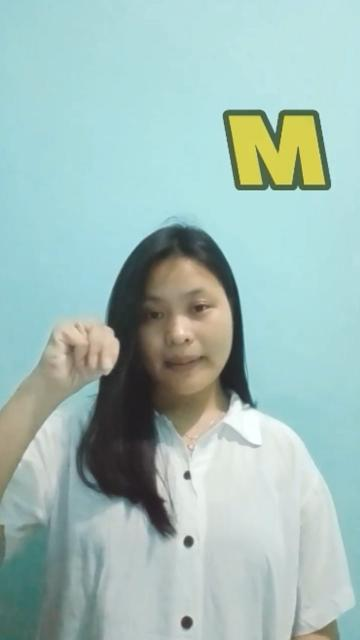M: (38, 319, 120, 393)
